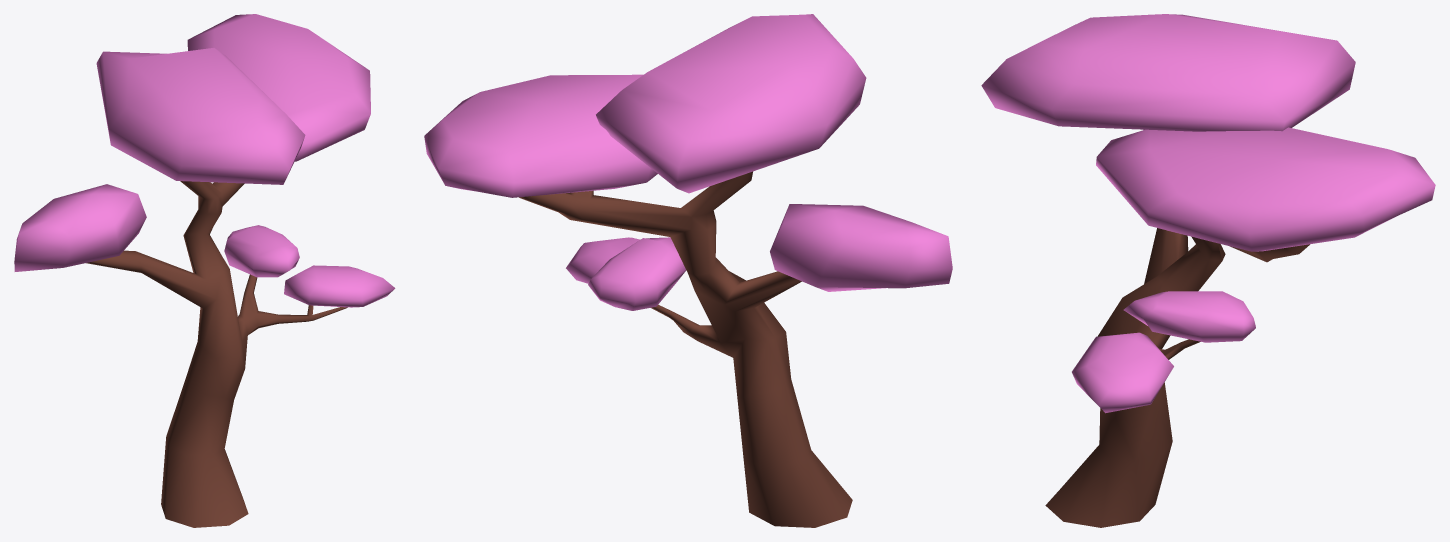
The model's file is Arvore_Cerejera_5.fbx.
3 renders of one model, left to right at view 1: azimuth 30°, elevation 25°; view 2: azimuth 150°, elevation 25°; view 3: azimuth 270°, elevation 25°, orthographic. The views are drawn at different scales.
Visible parts, largest first — view 1: Arvore_Cerejera_5; view 2: Arvore_Cerejera_5; view 3: Arvore_Cerejera_5.
Part boxes in pixels (x1=…): Arvore_Cerejera_5: x1=14, y1=14, x2=395, y2=527; Arvore_Cerejera_5: x1=424, y1=14, x2=952, y2=527; Arvore_Cerejera_5: x1=981, y1=14, x2=1435, y2=527.
Bounding box in the file's own units: 4.49 × 5.3 × 5.26.
